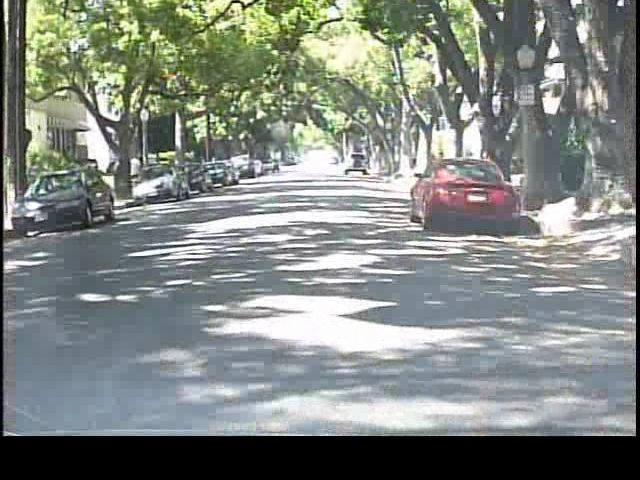person: (127, 149, 148, 194)
